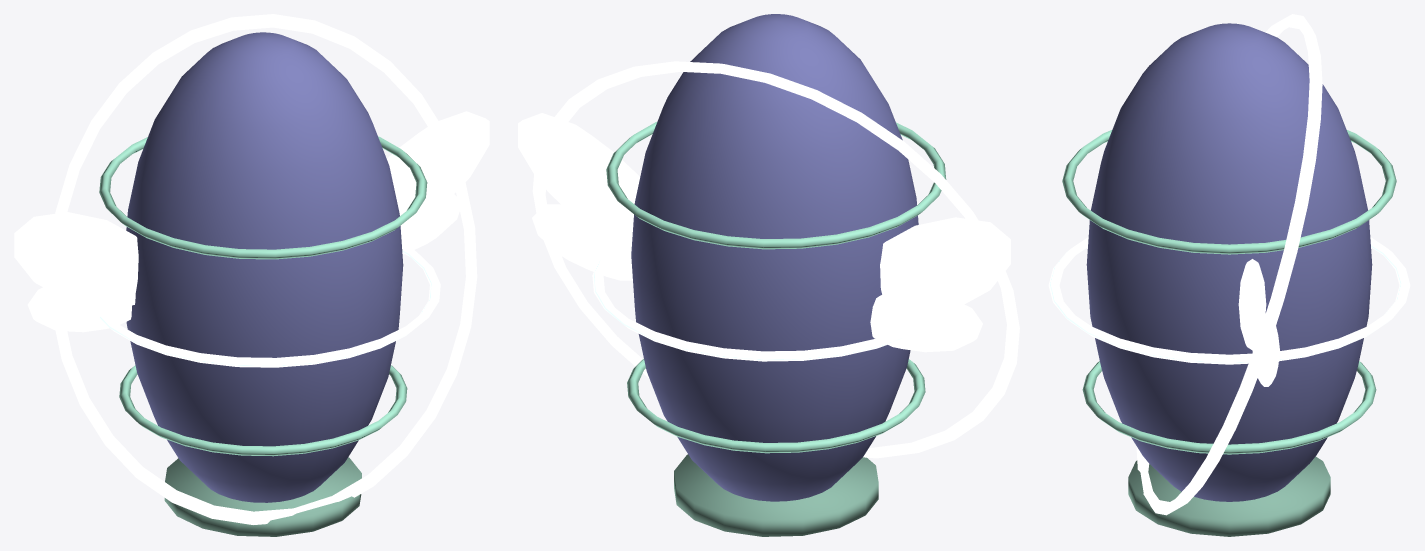
The model's file is egg_enchanted_11.glb.
The picture shows the model from 3 angles, left to right: view 1: azimuth 30°, elevation 25°; view 2: azimuth 150°, elevation 25°; view 3: azimuth 270°, elevation 25°; orthographic projection. The views are drawn at different scales.
Parts seen in each view (by area): view 1: ball; view 2: ball; view 3: ball.
Part boxes in pixels (x1,y1,x2,y2): ball: [14, 14, 489, 536]; ball: [518, 14, 1019, 536]; ball: [1048, 14, 1410, 536].
Size of the model in its own units: 1.2 by 1.12 by 0.7862.
